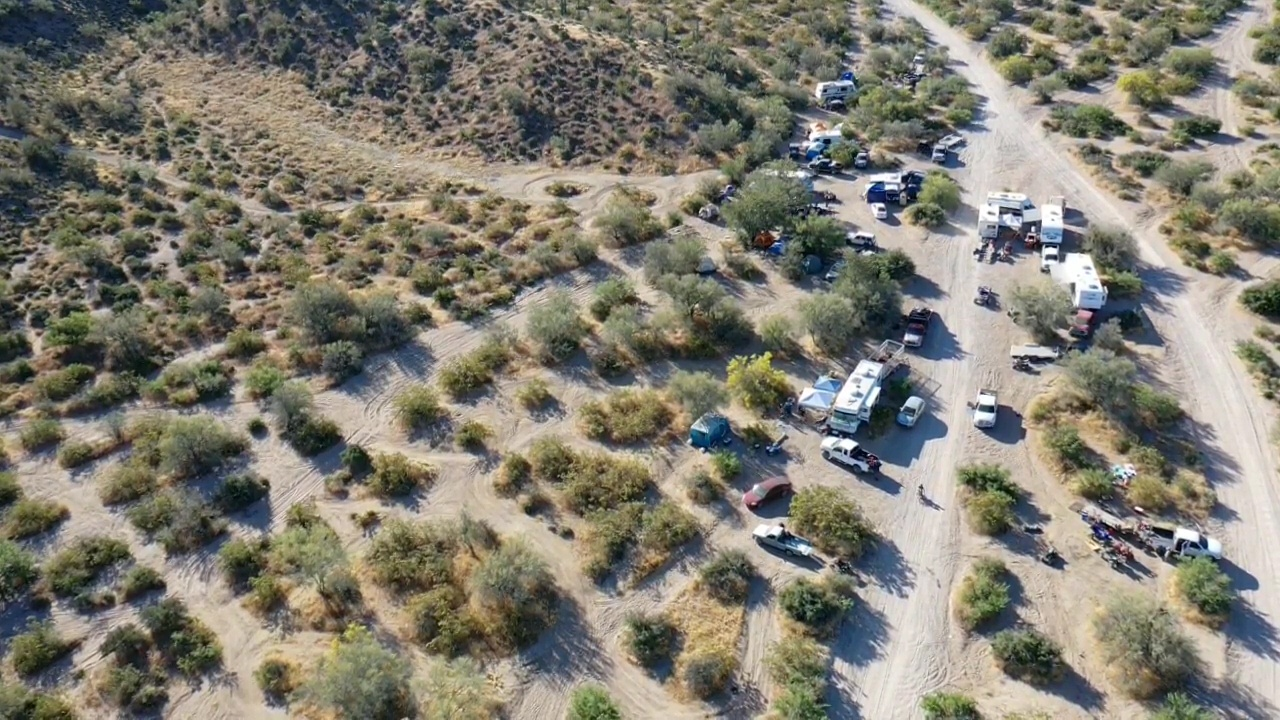araba: (740, 473, 798, 513), (973, 385, 1001, 428), (896, 393, 927, 429), (900, 321, 928, 348), (1040, 240, 1062, 273), (930, 137, 949, 167), (848, 229, 876, 245), (871, 197, 887, 222)
kamyonet: (1149, 519, 1228, 561), (818, 431, 877, 477), (749, 518, 815, 555)
otobus: (815, 76, 858, 110)
